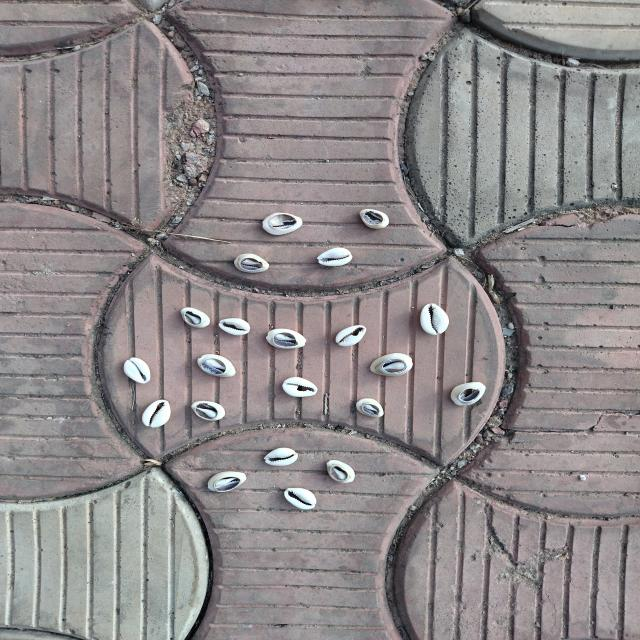facedown: (260, 210, 306, 236), (197, 352, 235, 382), (369, 353, 414, 378), (264, 327, 308, 352), (447, 381, 485, 406), (208, 470, 248, 493), (324, 457, 357, 484), (234, 252, 272, 275), (190, 399, 228, 422), (177, 306, 211, 330), (358, 206, 389, 232), (355, 396, 387, 419)
faceup: (140, 397, 174, 429), (419, 302, 451, 336), (120, 354, 153, 385), (262, 445, 302, 469), (315, 246, 354, 268), (282, 487, 321, 509), (334, 324, 369, 347), (283, 377, 320, 398), (218, 315, 250, 336)
